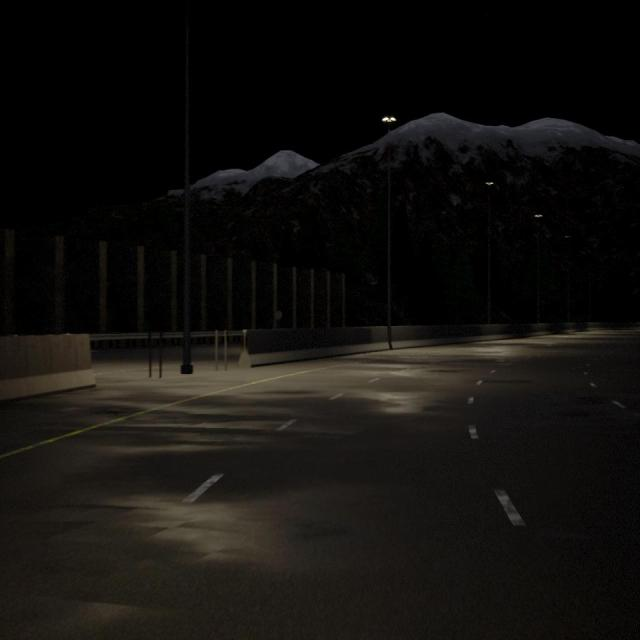Traffic_Signs: (276, 311, 282, 319)
